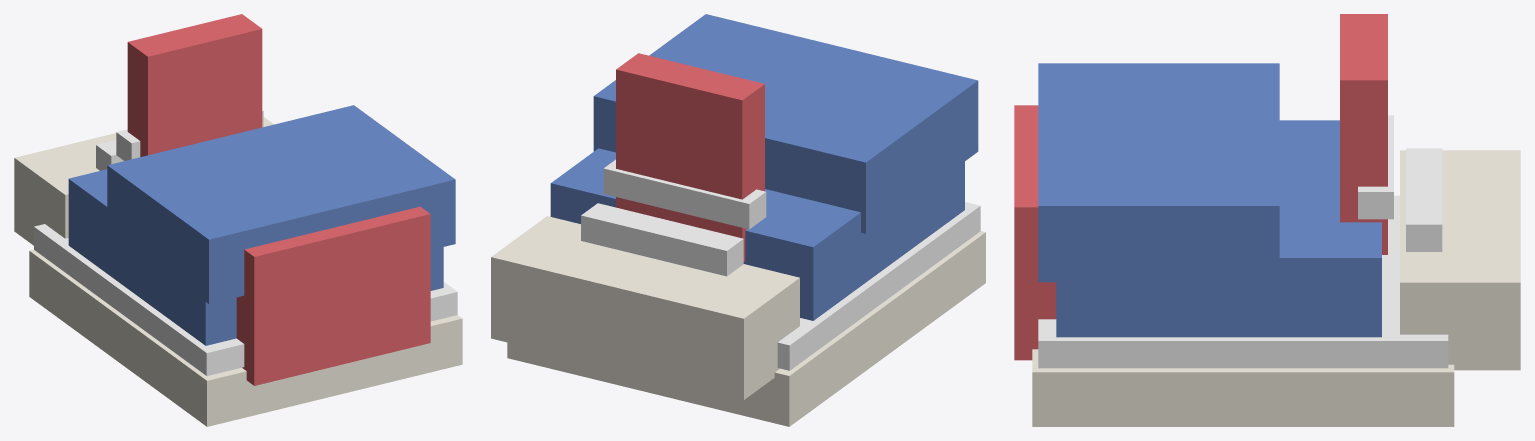
File: tenis_chunky_colorido.glb
3 views of the same model, side by side, from view 1: azimuth 30°, elevation 25°; view 2: azimuth 150°, elevation 25°; view 3: azimuth 270°, elevation 25° (orthographic). The views are drawn at different scales.
Parts seen in each view (by area): view 1: tenis_chunky_colorido; view 2: tenis_chunky_colorido; view 3: tenis_chunky_colorido.
Part boxes in pixels (left/top/right/bottom): tenis_chunky_colorido: left=14, top=14, right=462, bottom=426; tenis_chunky_colorido: left=491, top=14, right=985, bottom=426; tenis_chunky_colorido: left=1014, top=14, right=1520, bottom=426.
Size of the model in its own units: 0.29 by 0.28 by 0.42.
